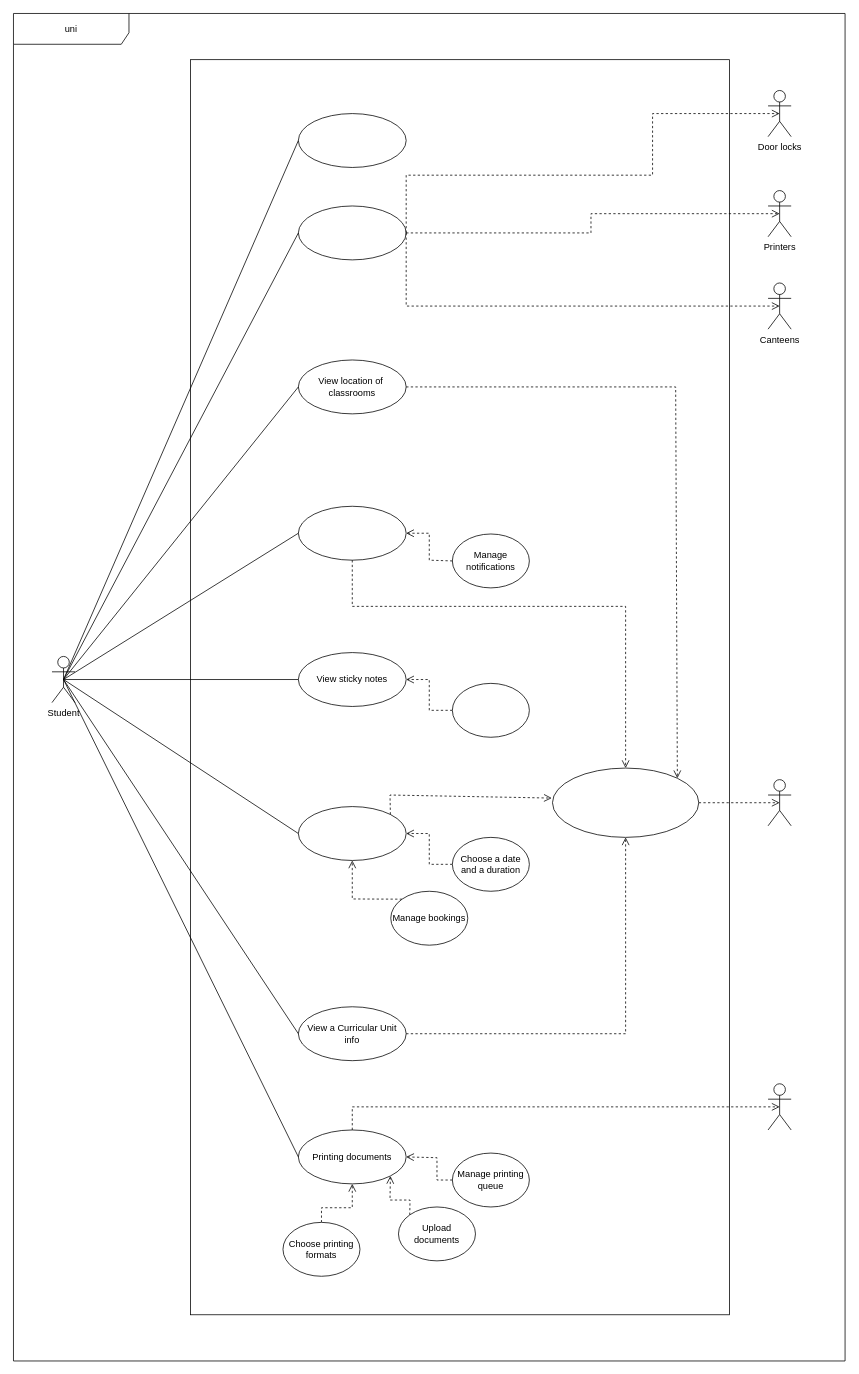
Image size: 859x1374. Some labels were removed from this diagram. Each missing label, with the centre of its shape:
"Access university services" belongs at (352,232).
"Book library rooms" belongs at (352,833).
"Manage sticky notes" belongs at (490,710).
"MsC Student's API" belongs at (625,802).
"SIGARRA" belongs at (779,802).
"View card data in the app" belongs at (352,140).
"View university notifications" belongs at (352,533).
"Webprint Server" belongs at (779,1106).
